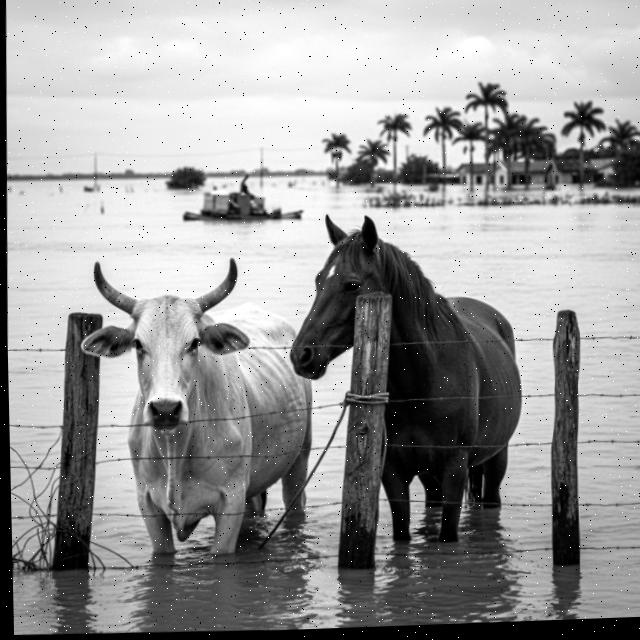cow: (69, 238, 318, 575)
horse: (278, 202, 540, 562)
